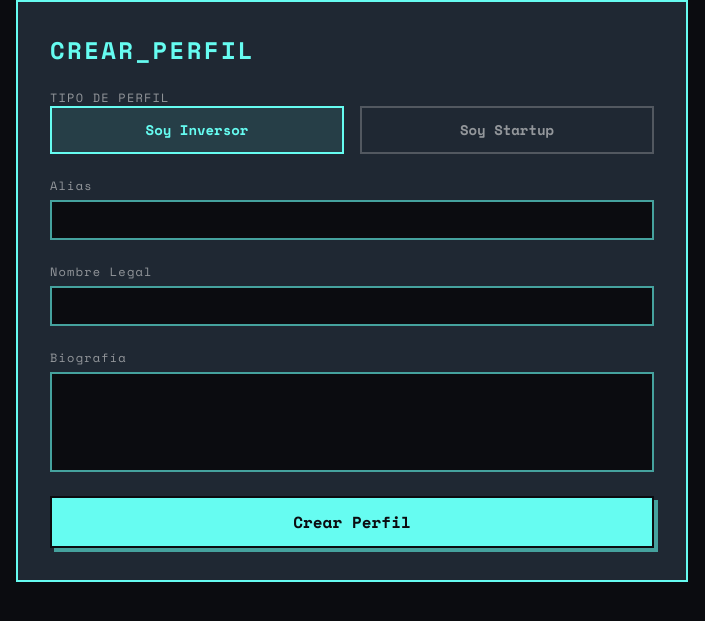
Test: RegistrationForm › blocks submission for a Startup profile without a legal name
The width and height of the screenshot is (705, 621).
Step 1. Type "acme" into the field labelled "Alias" → (352, 220), box left=50, top=200, right=654, bottom=240
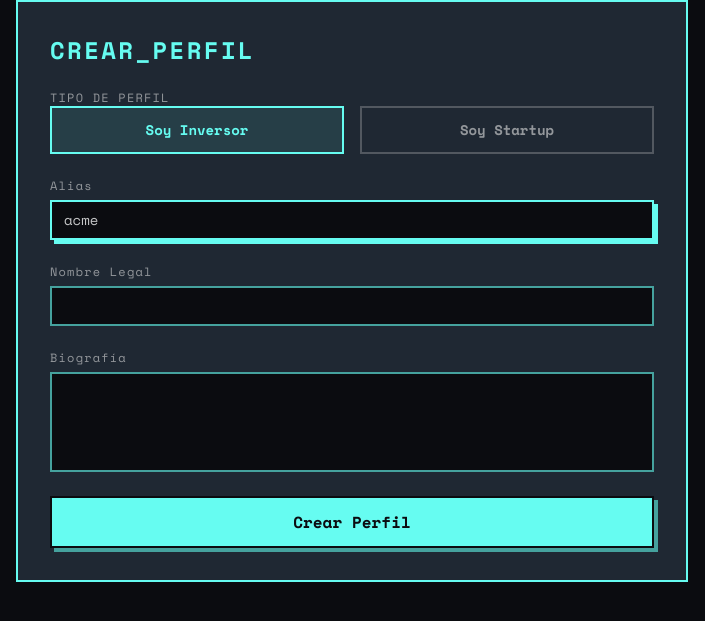
Step 2. Click the radio button labelled "Soy Startup" → (507, 130), box left=360, top=106, right=654, bottom=154
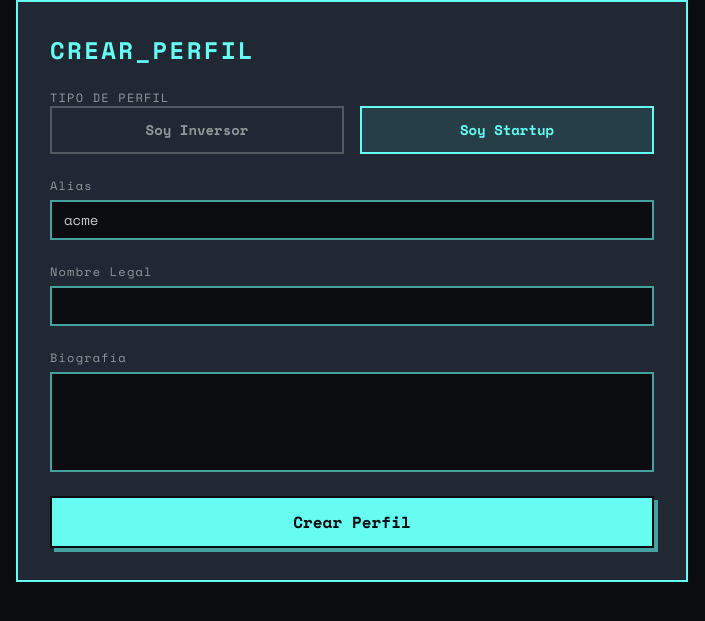
Step 3. Click the button "Crear Perfil" → (352, 522), box left=50, top=496, right=654, bottom=548
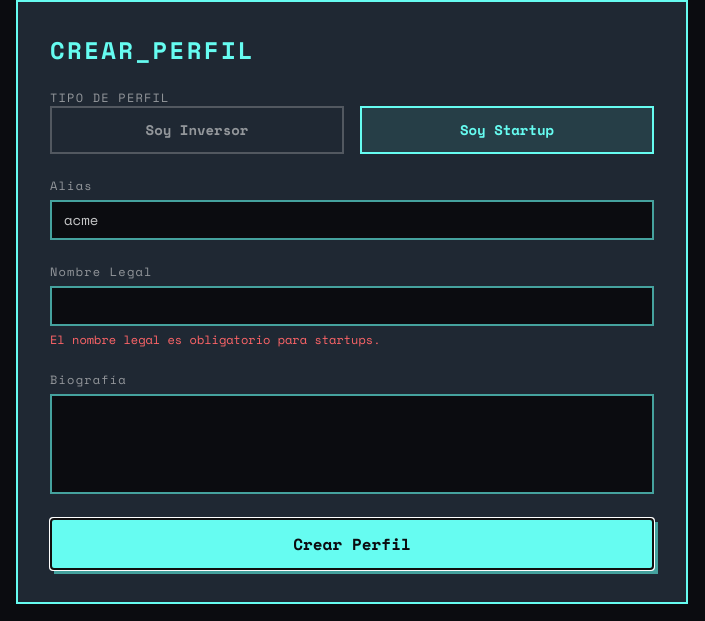
Result: the message shows "nombre legal es obligatorio" at left=50, top=331, right=380, bottom=348
